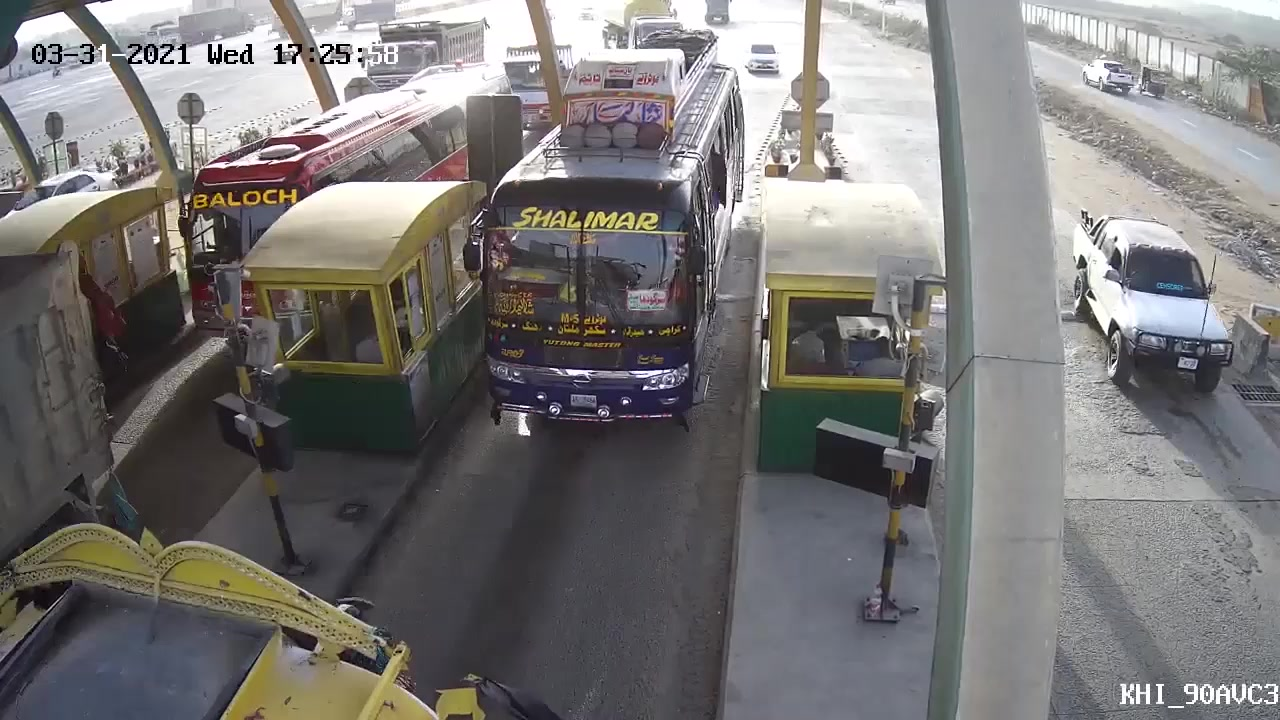F4: (466, 35, 757, 438)
